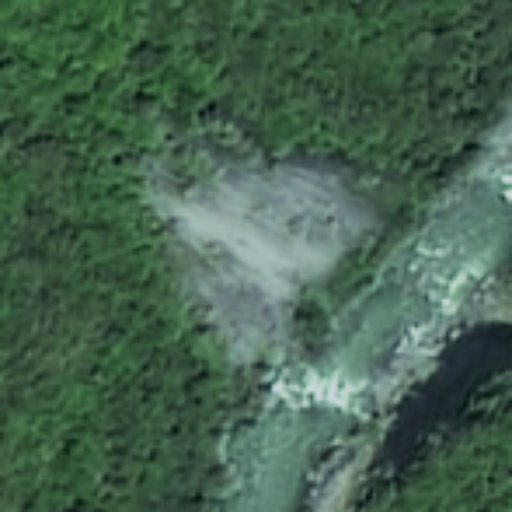landslide: (136, 129, 379, 357)
